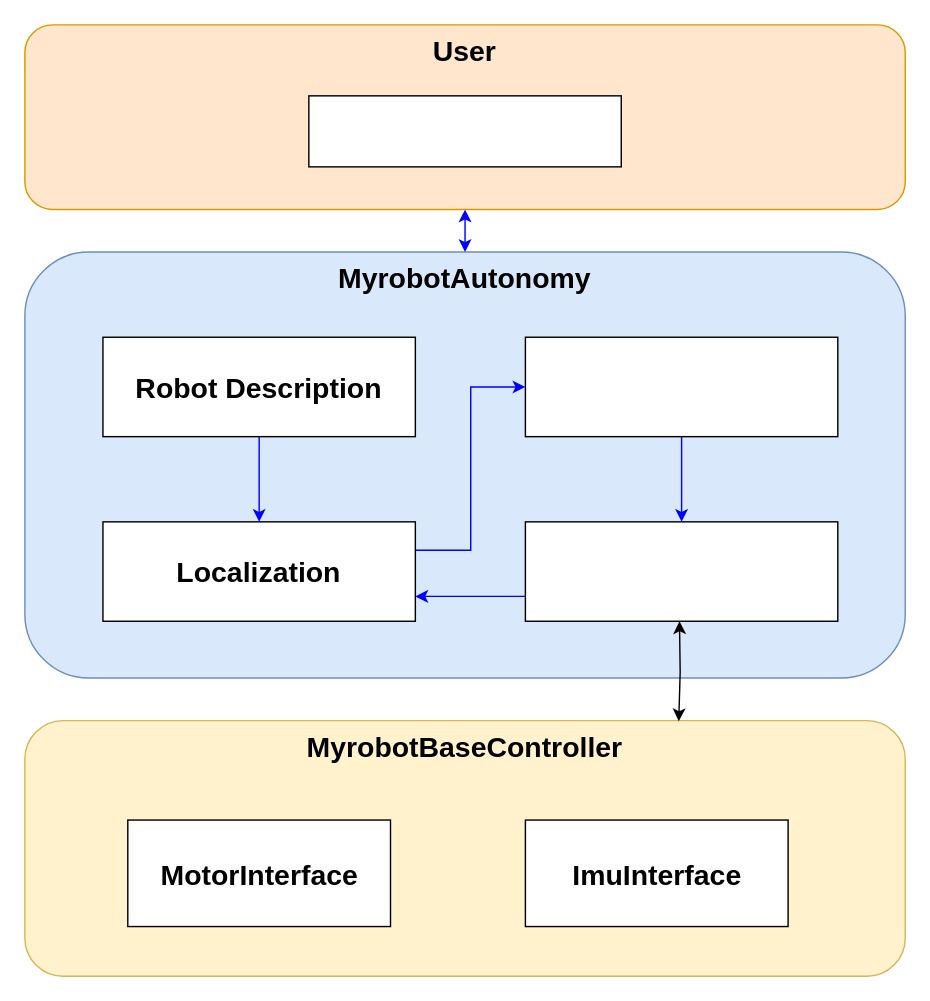
Some shapes in this 930 by 1001 pixel diagram are drawn without their labels. The shapes that lost their labels are listed below. From the top down, each one's centre as x and y in pixels, then its label:
At [464,130]: "User GUI".
At [681,386]: "Navigation".
At [681,570]: "ControlManager".
